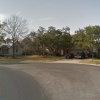Tree: (29, 21, 100, 59)
